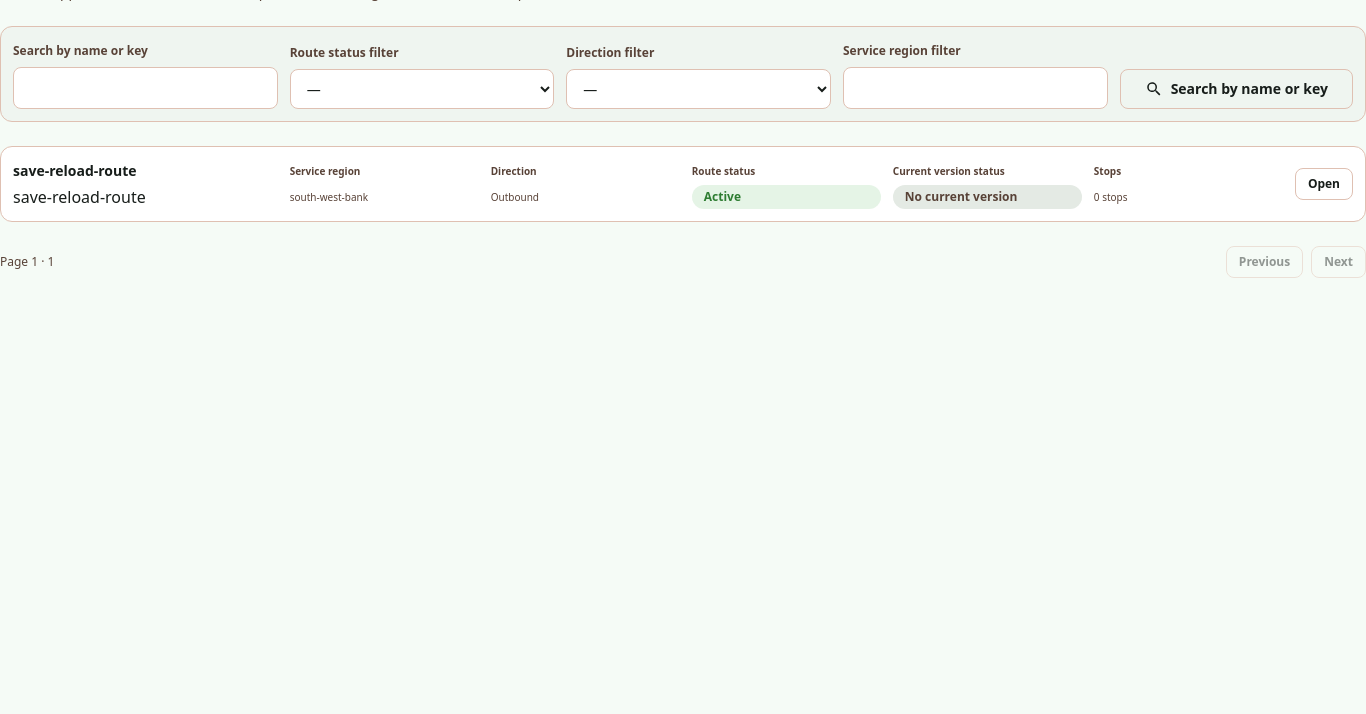
admin route management › shows a saved-draft reload failure beside the Versions workspace instead of page-wide
The image size is (1366, 714).
Click the button "Open".
click(1324, 184)  # box [1295, 168, 1353, 200]
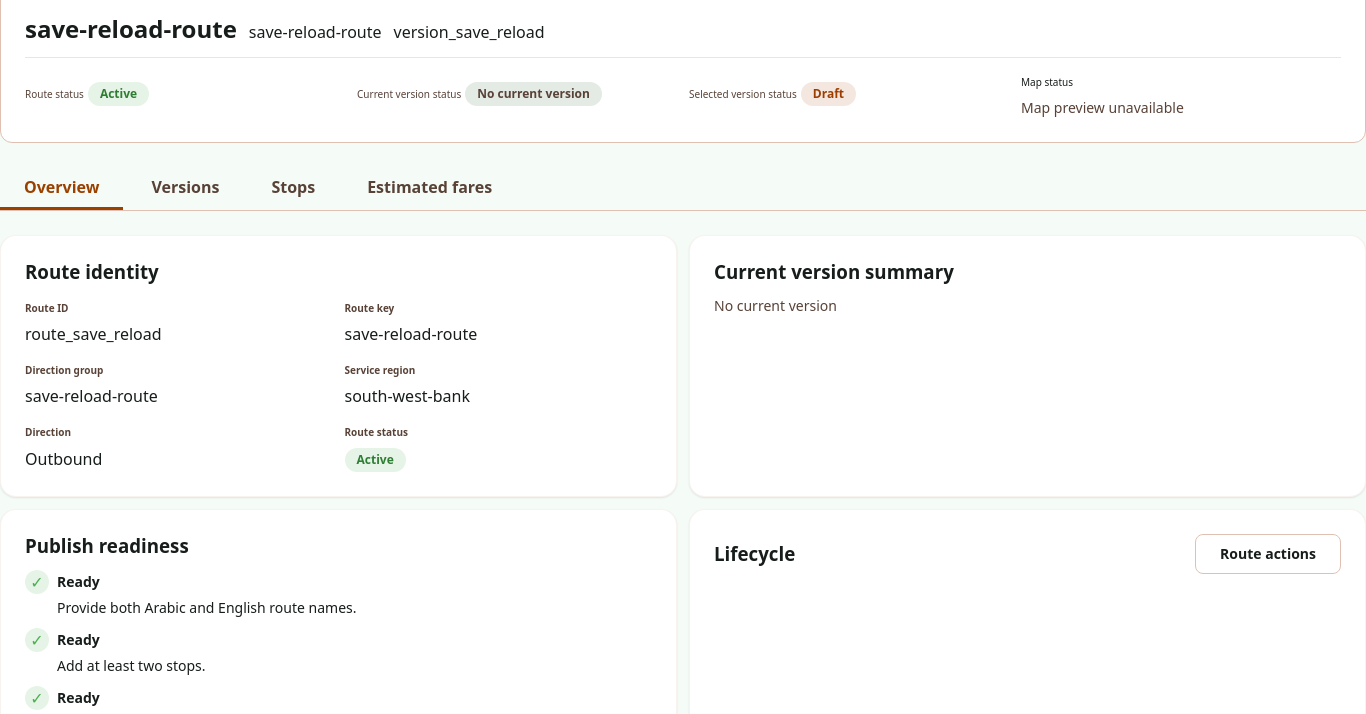
Click the tab "Versions".
click(185, 188)  # box [127, 167, 243, 210]
(page scrolled)
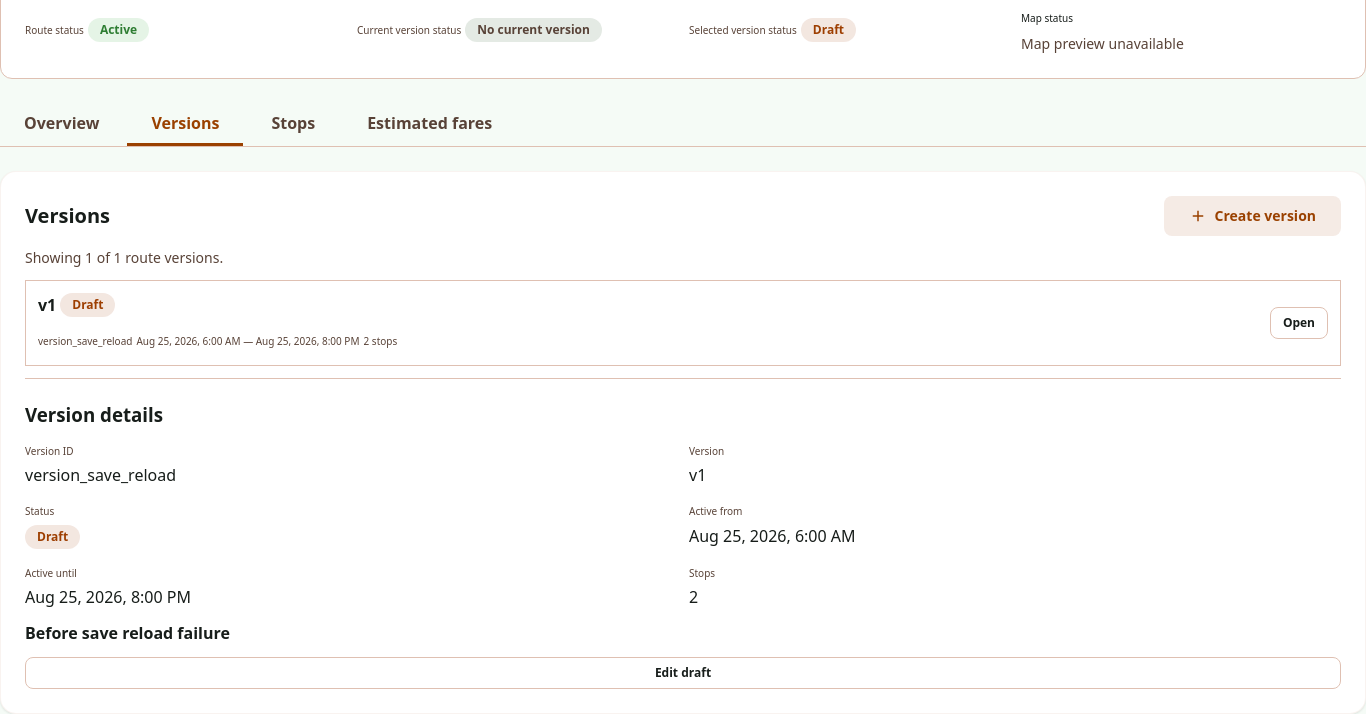
Click the button "Edit draft".
click(683, 673)  # box [25, 657, 1341, 689]
(page scrolled)
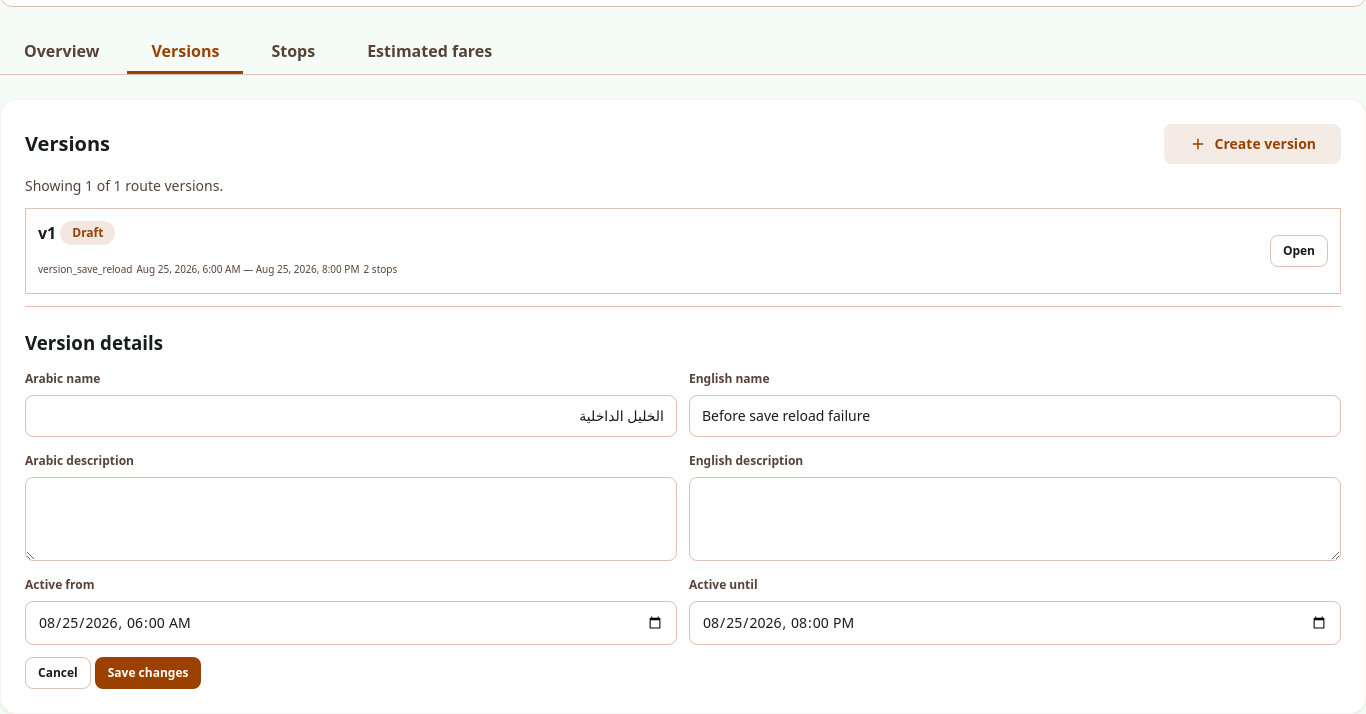
Submit the form, box [25, 367, 1341, 689]
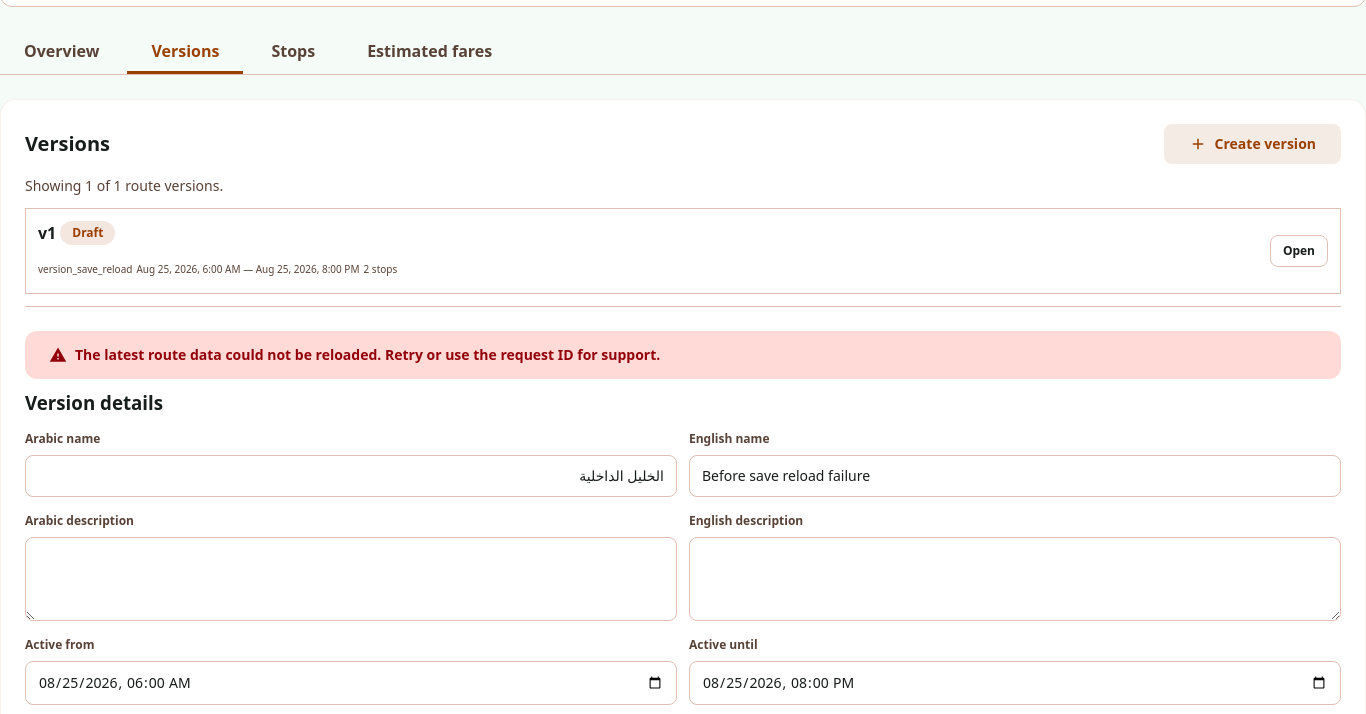
Now the message with class "notice--error" is shown, box [25, 331, 1341, 379]
Now the message with class "notice--error" shows "The latest route data could not be reloaded. Retry or use the request ID for support.", box [75, 345, 660, 364]
